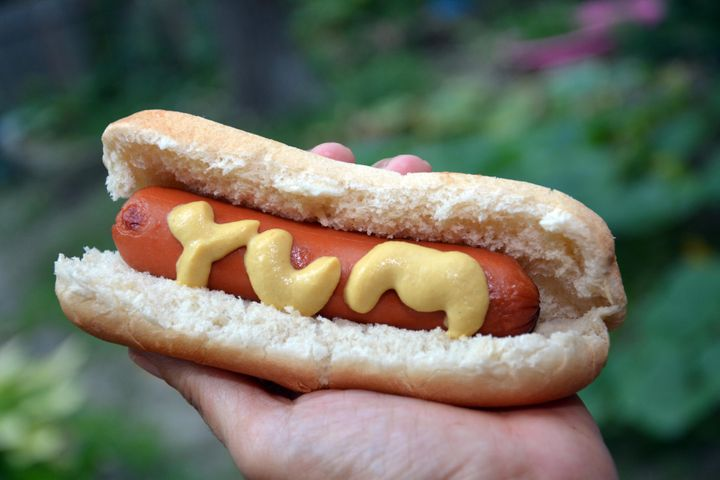hamburger_buns: (40, 83, 662, 458)
